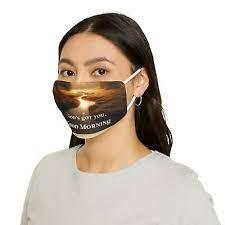mask: (51, 76, 137, 142)
